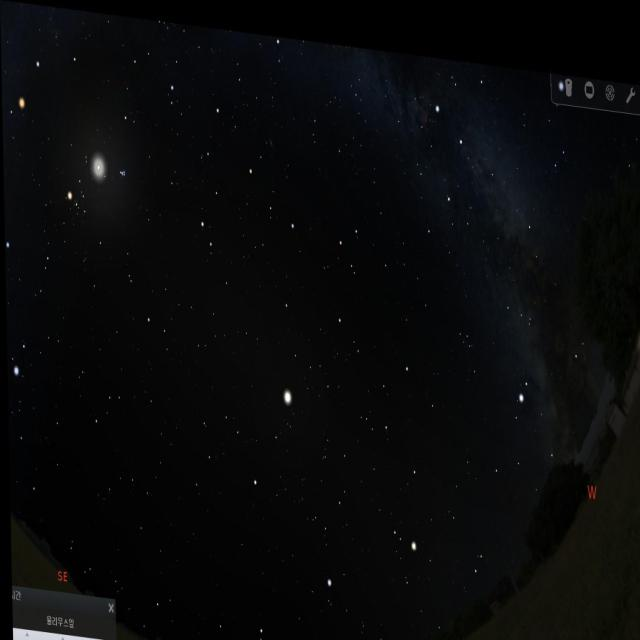cygnus: (429, 50, 538, 224)
moon: (87, 147, 111, 189)
pleiades: (115, 156, 129, 184)
taurus: (59, 129, 135, 256)
